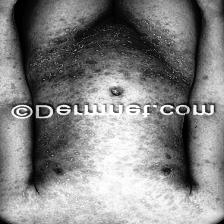Non-Cancerous Skin Condition: (40, 118, 178, 224), (34, 36, 184, 94)
